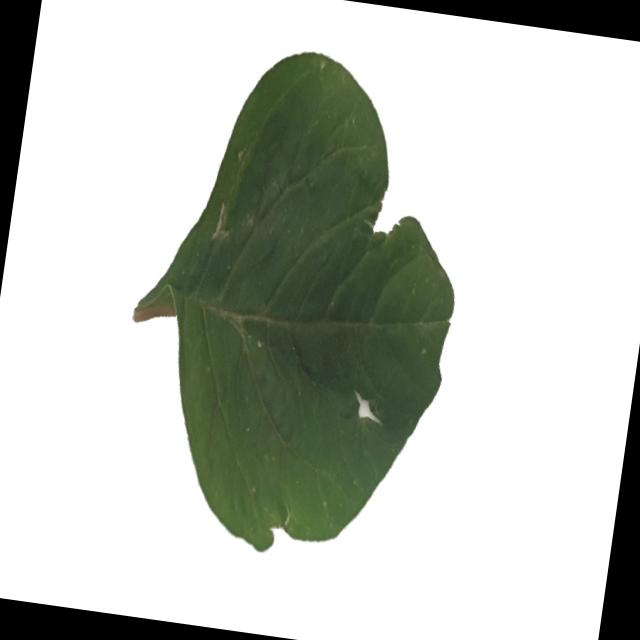Medicinal-Arive Dantu: (99, 29, 487, 573)
